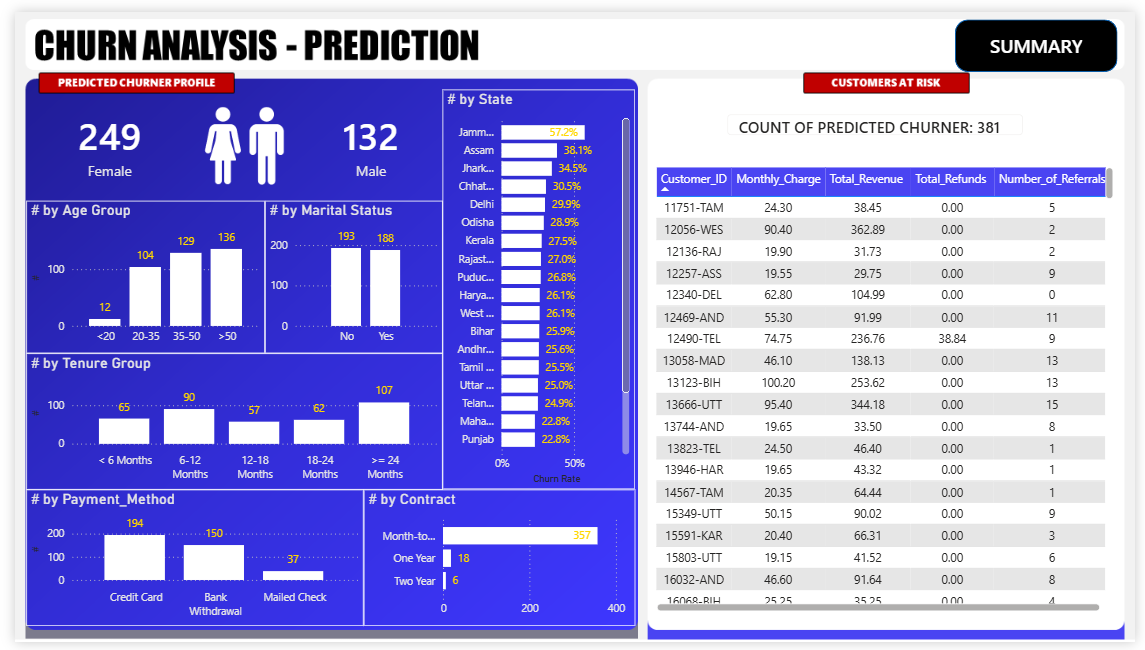

Layout of this report page (visuals, bound fields, positions):
{"tool":"powerbi","page":{"name":"Churn Prediction","canvas":[1280,720],"ordinal":2},"visuals":[{"type":"tableEx","fields":{"Values":["Predictions (1).Customer_ID","Predictions (1).Monthly_Charge","Predictions (1).Total_Revenue","Predictions (1).Total_Refunds","Predictions (1).Number_of_Referrals"]},"box":[727.1,172.9,532.9,517.1],"z":0},{"type":"cardVisual","fields":{"Data":["Predictions (1).Title Predicted Churner"]},"box":[797.1,100,372.9,58.6],"z":1000},{"type":"cardVisual","fields":{"Data":["Predictions (1).Count Predictor Churner"]},"box":[24.3,94.3,168.6,114.3],"z":2000},{"type":"cardVisual","fields":{"Data":["Predictions (1).Count Predictor Churner"]},"box":[331.4,97.1,151.4,108.6],"z":3000},{"type":"clusteredColumnChart","fields":{"Category":["Mapping_Age.Age Group"],"Y":["CountNonNull(Predictions (1).Customer_ID)"]},"box":[12.9,215.7,272.9,174.3],"z":4000},{"type":"clusteredColumnChart","fields":{"Y":["CountNonNull(Predictions (1).Customer_ID)"],"Category":["Predictions (1).Married"]},"box":[285.7,215.7,202.9,174.3],"z":5000},{"type":"clusteredColumnChart","fields":{"Y":["CountNonNull(Predictions (1).Customer_ID)"],"Category":["Mapping_Tenure_Grp.Tenure Group"]},"box":[12.9,390,475.7,155.7],"z":6000},{"type":"clusteredColumnChart","fields":{"Y":["CountNonNull(Predictions (1).Customer_ID)"],"Category":["Predictions (1).Payment_Method"]},"box":[12.9,545.7,385.7,155.7],"z":7000},{"type":"barChart","fields":{"Category":["Predictions (1).Contract"],"Y":["CountNonNull(Predictions (1).Customer_ID)"]},"box":[398.6,545.7,310,155.7],"z":8000},{"type":"barChart","title":"# by State","fields":{"Y":["tbl_measure.Churn Rate"],"Category":["prod_Churn.State"]},"box":[488.6,88.6,220,457.1],"z":9000},{"type":"image","box":[205.7,88.6,112.9,127.1],"z":10000},{"type":"shape","box":[1074.3,8.6,185.7,60],"z":10001}]}

Visuals, with their boxes in screenshot pixels (x1, y1, x2, y2), scaled from the page's 1280x720 canvas onto the 1145x650 screenshot:
tableEx - Predictions (1).Customer_ID x Predictions (1).Monthly_Charge: (650, 156, 1127, 623)
cardVisual - Predictions (1).Title Predicted Churner: (713, 90, 1047, 143)
cardVisual - Predictions (1).Count Predictor Churner: (22, 85, 173, 188)
cardVisual - Predictions (1).Count Predictor Churner: (296, 88, 432, 186)
clusteredColumnChart - Mapping_Age.Age Group x CountNonNull(Predictions (1).Customer_ID): (12, 195, 256, 352)
clusteredColumnChart - CountNonNull(Predictions (1).Customer_ID) x Predictions (1).Married: (256, 195, 437, 352)
clusteredColumnChart - CountNonNull(Predictions (1).Customer_ID) x Mapping_Tenure_Grp.Tenure Group: (12, 352, 437, 493)
clusteredColumnChart - CountNonNull(Predictions (1).Customer_ID) x Predictions (1).Payment_Method: (12, 493, 357, 633)
barChart - Predictions (1).Contract x CountNonNull(Predictions (1).Customer_ID): (357, 493, 634, 633)
"# by State" barChart: (437, 80, 634, 493)
image: (184, 80, 285, 195)
shape: (961, 8, 1127, 62)
